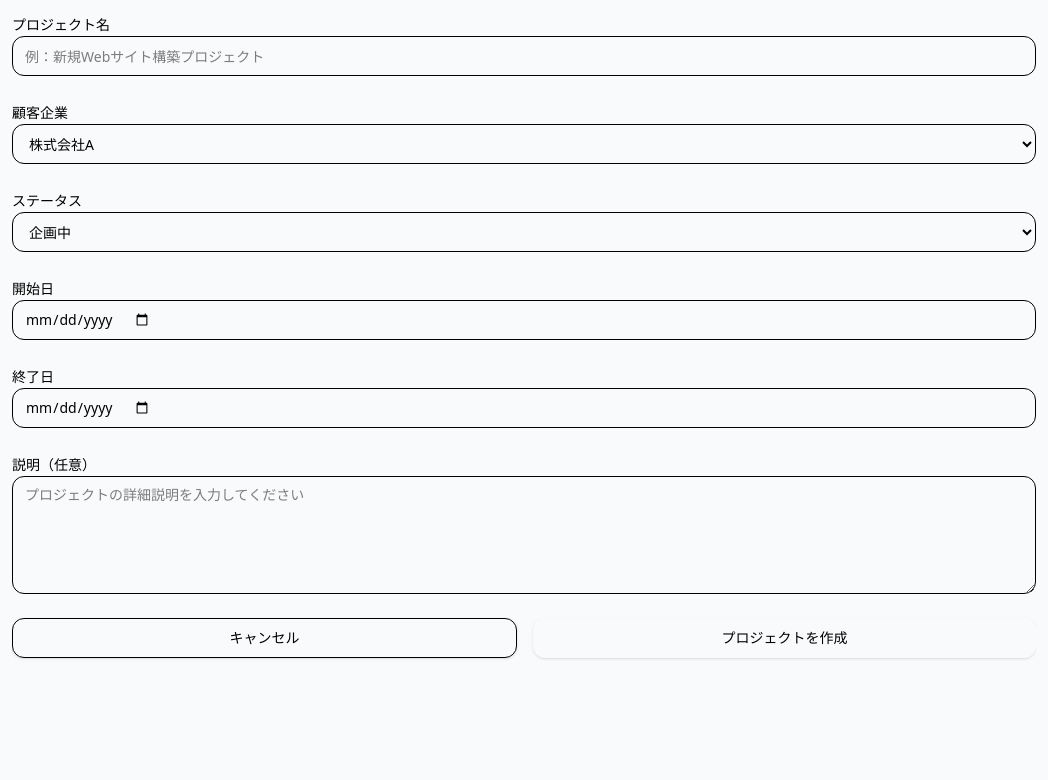
Test: ProjectForm › バリデーション › 終了日が開始日より前の場合エラーが表示される
In the field labelled "プロジェクト名": [524, 56] box [12,36,1036,76], type "テストプロジェクト"
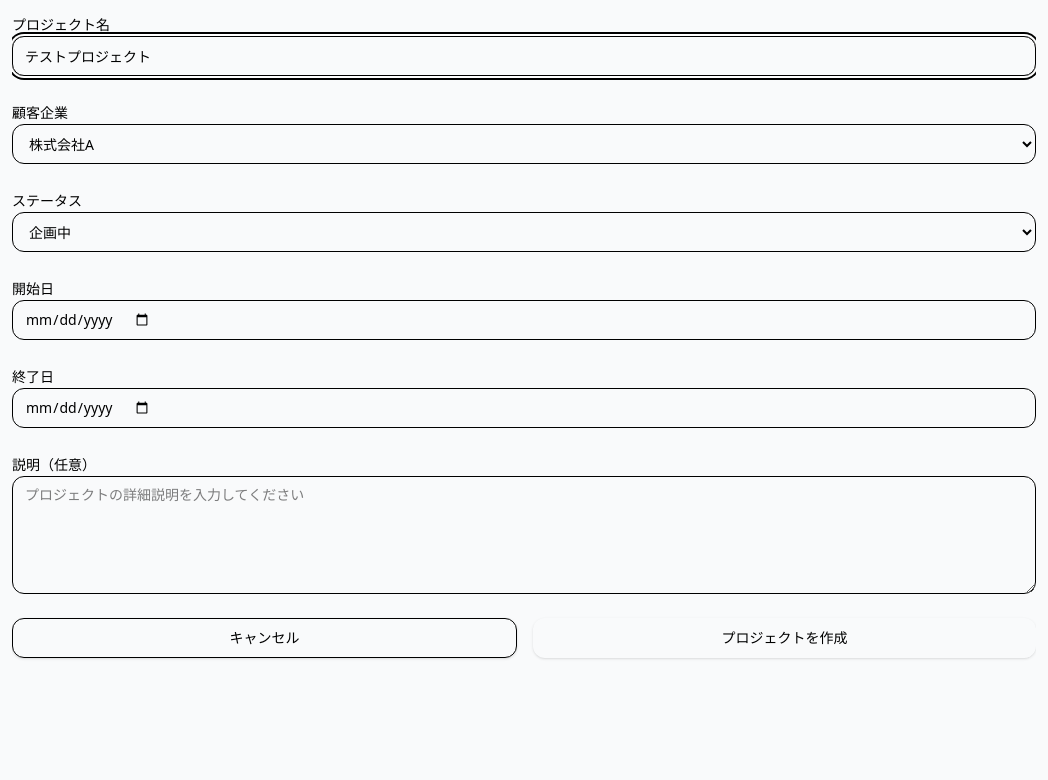
Select "株式会社A" in the dropdown labelled "顧客企業": [524, 144] box [12,124,1036,164]
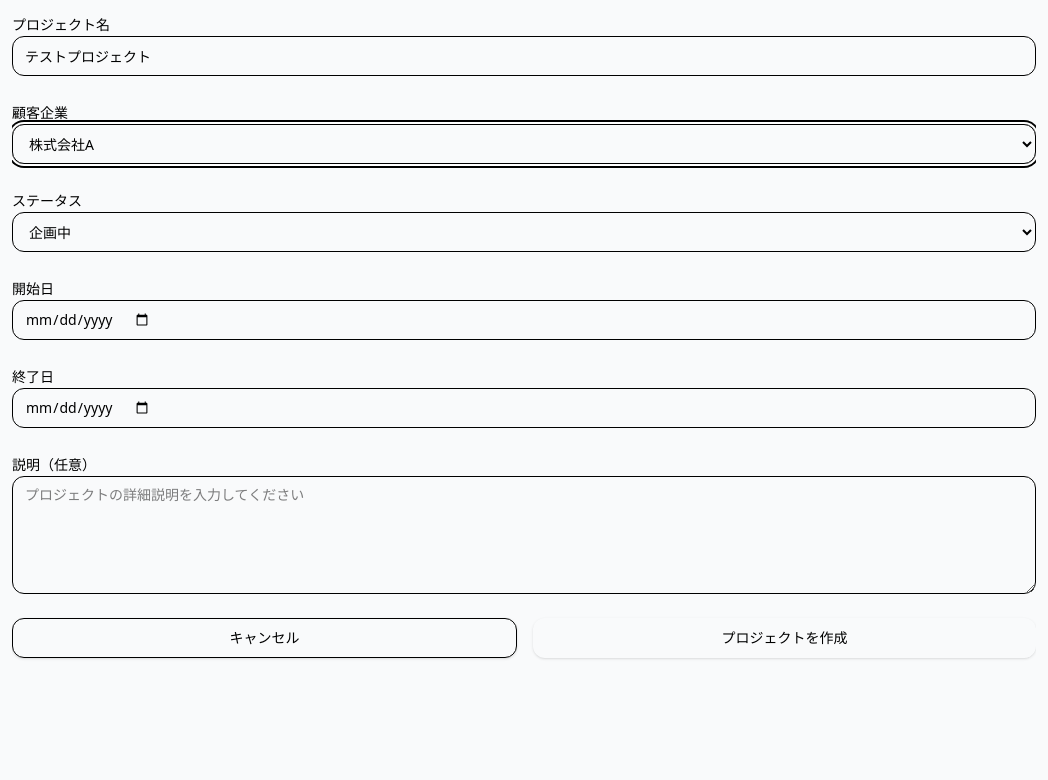
In the date field labelled "開始日": [524, 320] box [12,300,1036,340], type "2025-09-30"
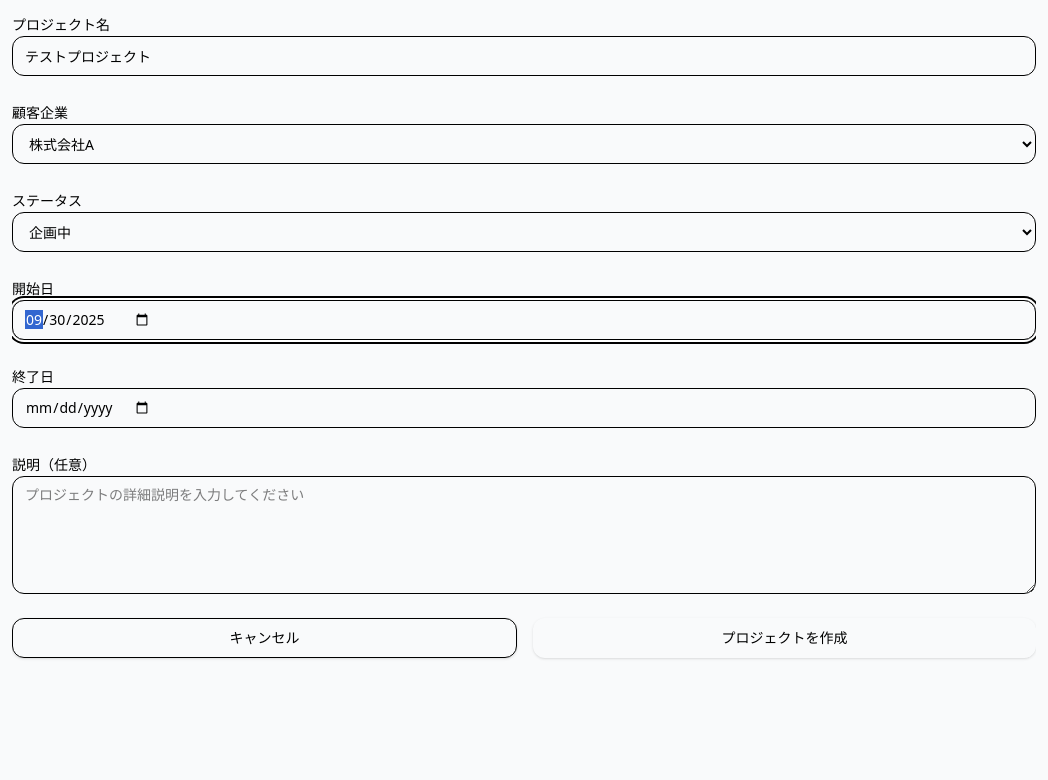
In the date field labelled "終了日": [524, 408] box [12,388,1036,428], type "2025-04-01"
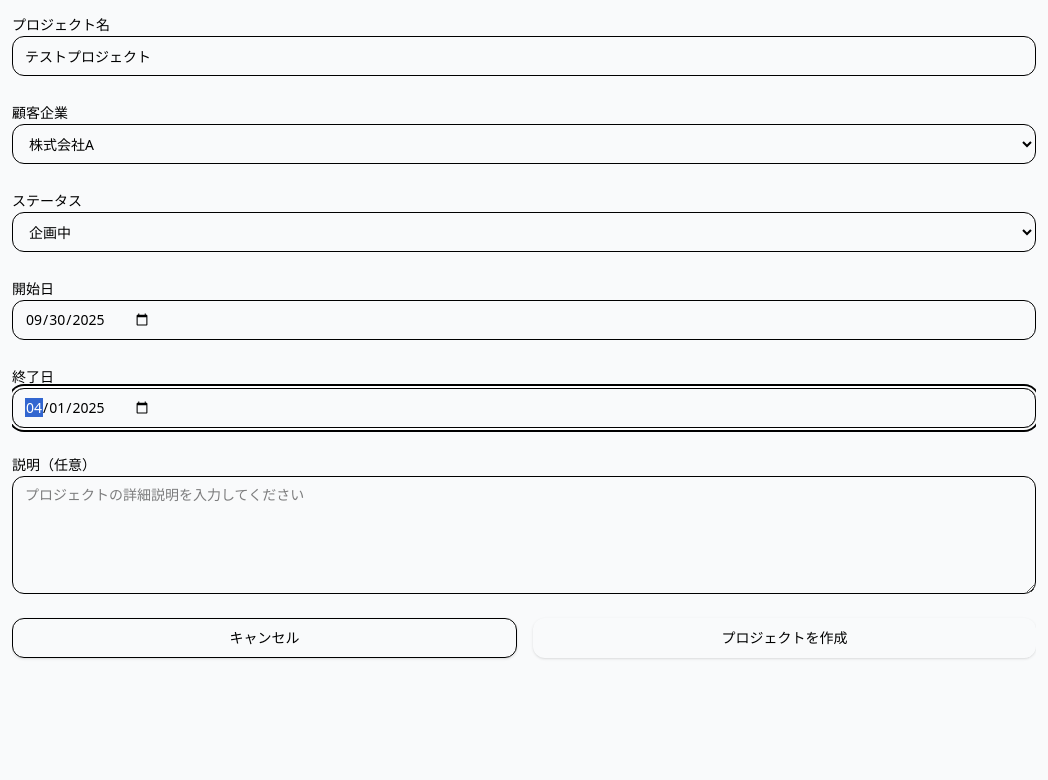
Click the button "プロジェクトを作成": [784, 638] box [533,618,1036,658]
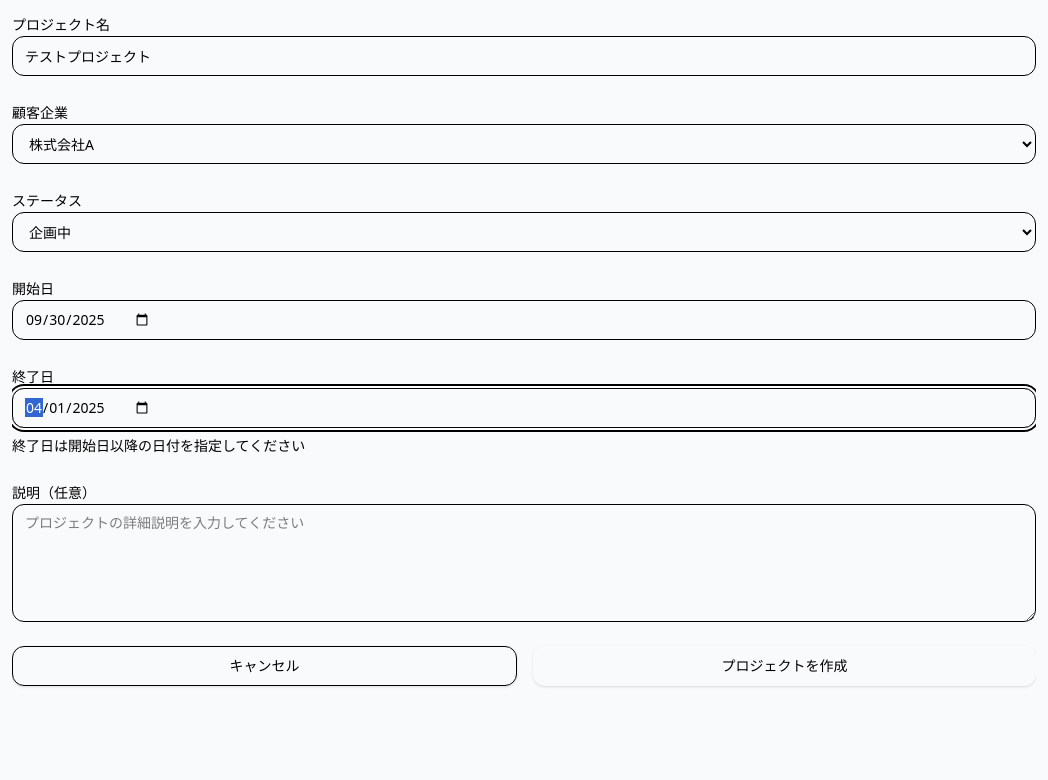
Now the text "終了日は開始日以降の日付を指定してください" is shown, box [12,436,305,455]
